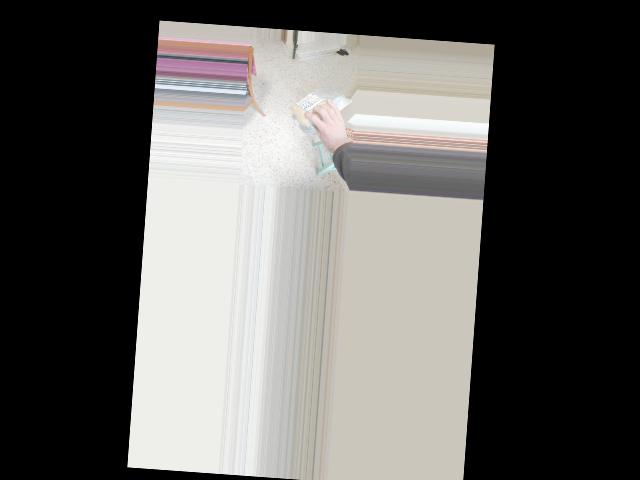cheese: (282, 89, 353, 124)
